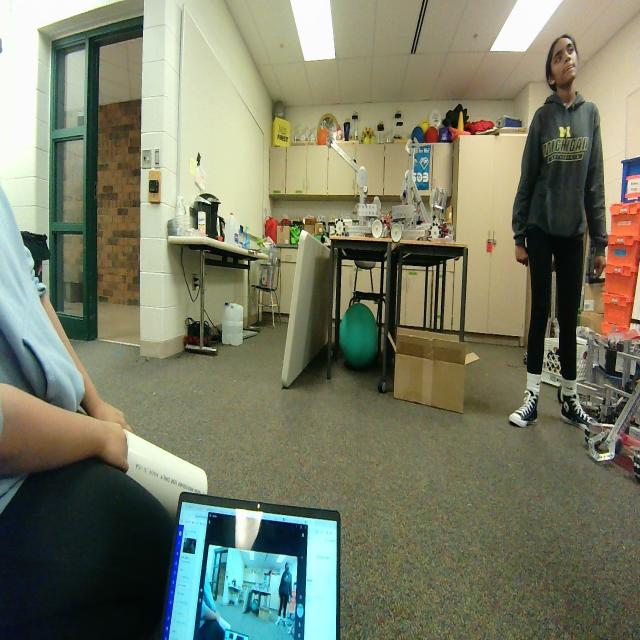algae: (339, 300, 379, 373)
